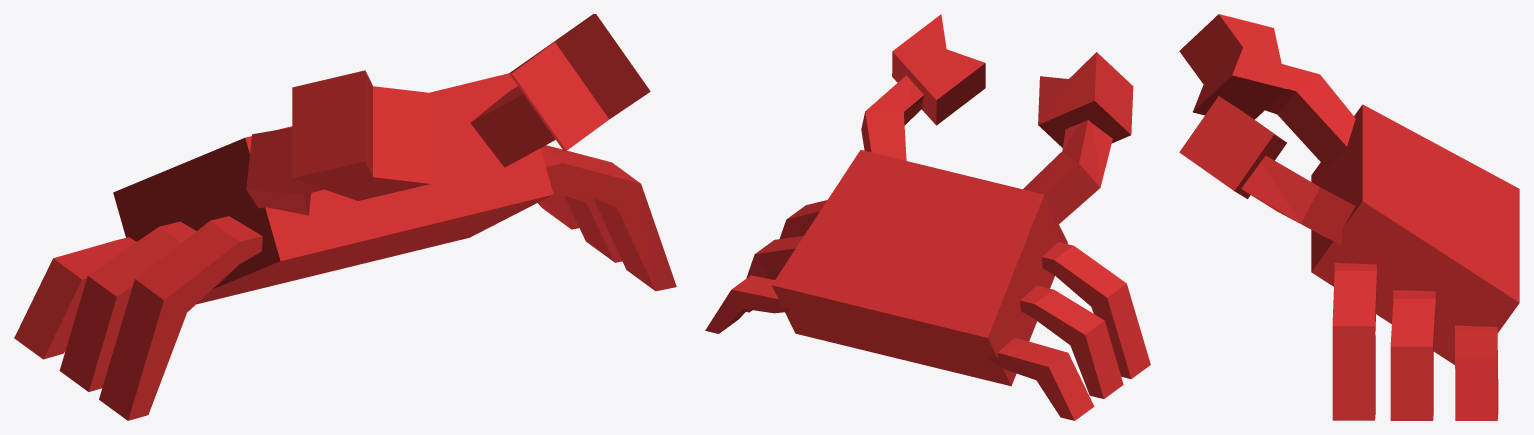
Rendered from Crab.fbx.
The picture shows the model from 3 angles, left to right: view 1: azimuth 30°, elevation 25°; view 2: azimuth 150°, elevation 25°; view 3: azimuth 270°, elevation 25°; orthographic projection. The views are drawn at different scales.
Visible parts, largest first — view 1: ude.001; view 2: ude.001; view 3: ude.001.
Boxes of the visible parts, x1=… form: ude.001: x1=14, y1=14, x2=676, y2=420; ude.001: x1=705, y1=14, x2=1150, y2=420; ude.001: x1=1179, y1=14, x2=1519, y2=420.
Bounding box in the file's own units: 492 × 316 × 363.
